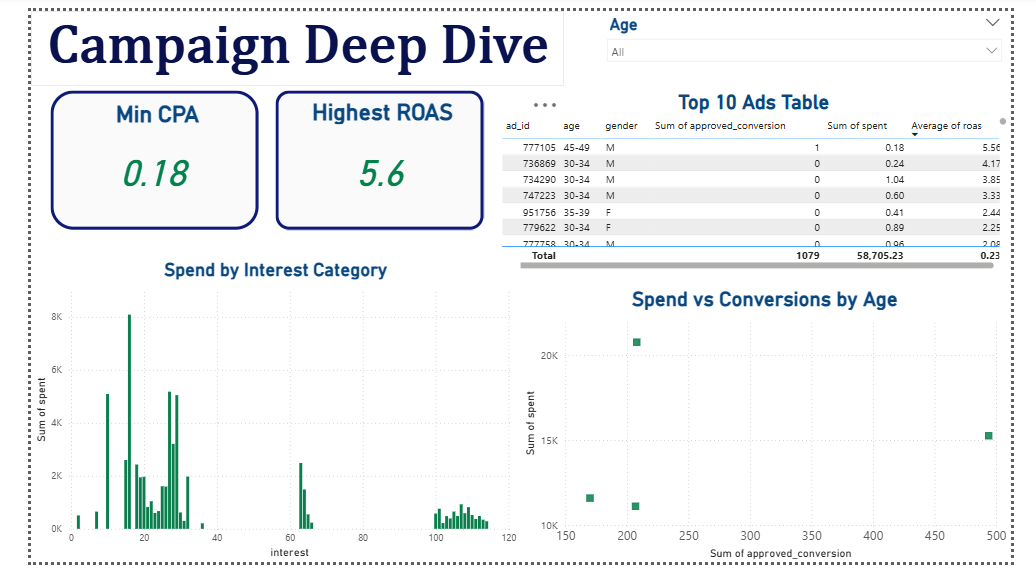

What the dashboard file says about the page in this screenshot:
{"tool":"powerbi","page":{"name":"Page 4","canvas":[1280,720],"ordinal":3},"visuals":[{"type":"tableEx","title":"Top 10 Ads Table","fields":{"Values":["cleaned_ad_data (1).ad_id","cleaned_ad_data (1).age","cleaned_ad_data (1).gender","Sum(cleaned_ad_data (1).approved_conversion)","Sum(cleaned_ad_data (1).spent)","Avg(cleaned_ad_data (1).roas)"]},"box":[610,104,670,238],"z":0},{"type":"scatterChart","title":"Spend vs Conversions by Age","fields":{"X":["Sum(cleaned_ad_data (1).approved_conversion)"],"Y":["Sum(cleaned_ad_data (1).spent)"],"Category":["cleaned_ad_data (1).age"]},"box":[640,360,640,360],"z":1000},{"type":"clusteredColumnChart","title":"Spend by Interest Category","fields":{"Y":["Sum(cleaned_ad_data (1).spent)"],"Category":["cleaned_ad_data (1).interest"]},"box":[0,324,640,396],"z":2000},{"type":"slicer","fields":{"Values":["cleaned_ad_data (1).age"]},"box":[744,0,536,84],"z":5000},{"type":"textbox","box":[0,0,696,98],"z":5001},{"type":"advanceCardE03760C5AB684758B56AA29F9E6C257B","title":"Highest ROAS","fields":{"mainMeasure":["Max(cleaned_ad_data (1).roas)"]},"box":[320,104,272,182],"z":5002},{"type":"advanceCardE03760C5AB684758B56AA29F9E6C257B","title":"Min CPA","fields":{"mainMeasure":["cleaned_ad_data.Min CPA"]},"box":[26,104,272,182],"z":5003}]}

Visuals, with their boxes in screenshot pixels (x1, y1, x2, y2), scaled from the page's 1280x720 canvas onto the 1036x586 screenshot:
"Top 10 Ads Table" tableEx: {"left": 494, "top": 85, "right": 1035, "bottom": 278}
"Spend vs Conversions by Age" scatterChart: {"left": 518, "top": 293, "right": 1035, "bottom": 585}
"Spend by Interest Category" clusteredColumnChart: {"left": 0, "top": 264, "right": 518, "bottom": 585}
slicer - cleaned_ad_data (1).age: {"left": 602, "top": 0, "right": 1035, "bottom": 68}
textbox: {"left": 0, "top": 0, "right": 563, "bottom": 80}
"Highest ROAS" advanceCardE03760C5AB684758B56AA29F9E6C257B: {"left": 259, "top": 85, "right": 479, "bottom": 233}
"Min CPA" advanceCardE03760C5AB684758B56AA29F9E6C257B: {"left": 21, "top": 85, "right": 241, "bottom": 233}
